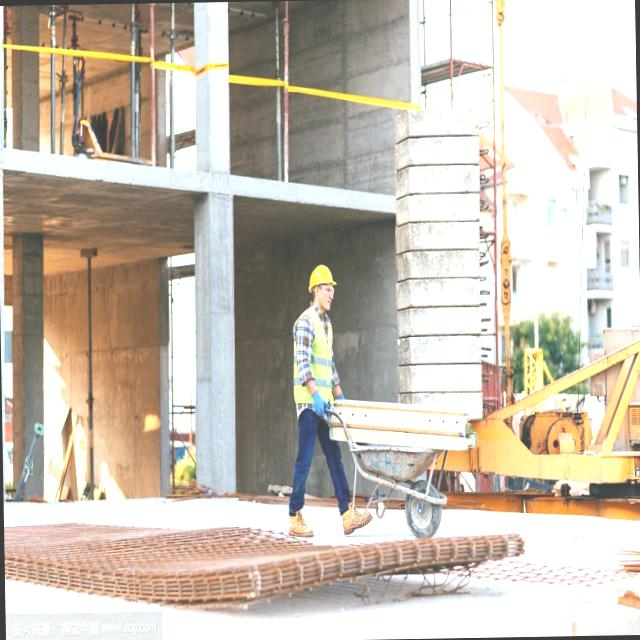goggles: (314, 284, 337, 298)
helmet: (304, 260, 341, 300)
vest: (290, 306, 342, 424)
